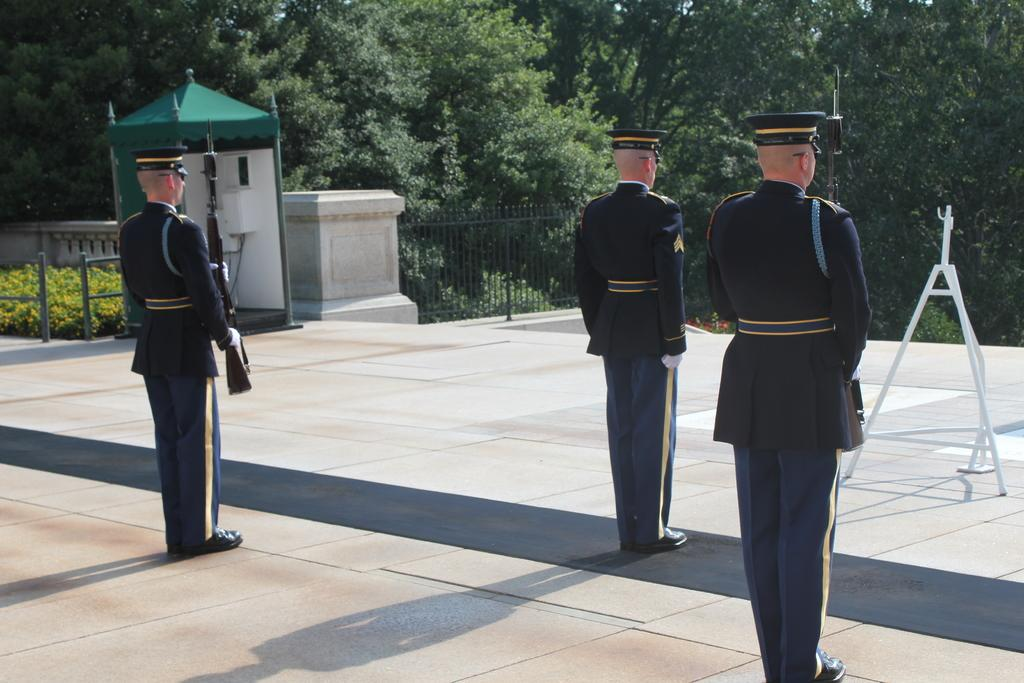Hat: (743, 108, 823, 155), (608, 124, 662, 150), (134, 146, 189, 170)
